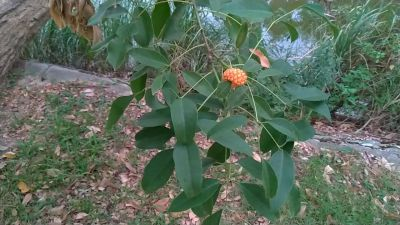eggs: (222, 66, 250, 86)
